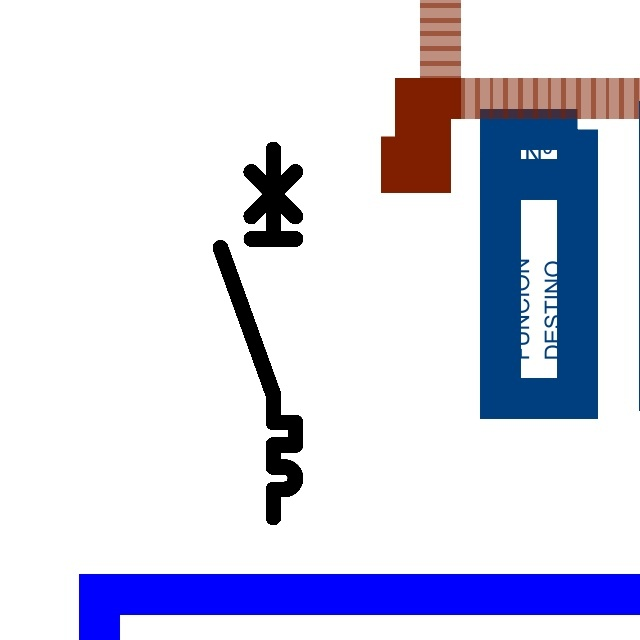interruptor_termomagnetico: (211, 140, 305, 527)
